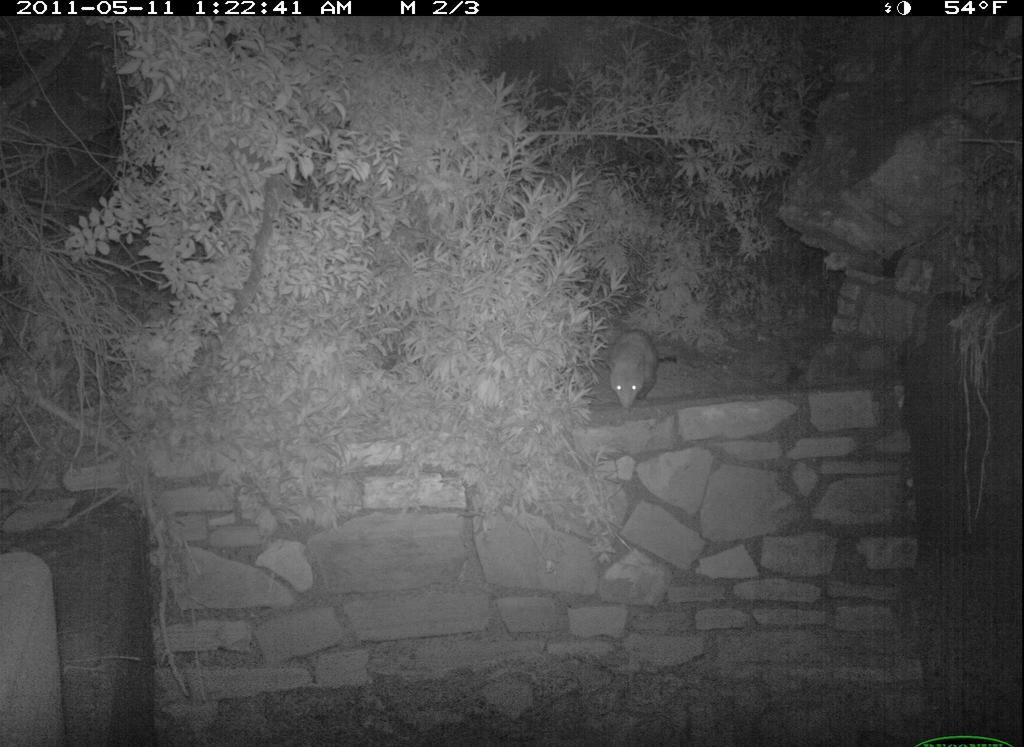opossum: (602, 324, 688, 423)
